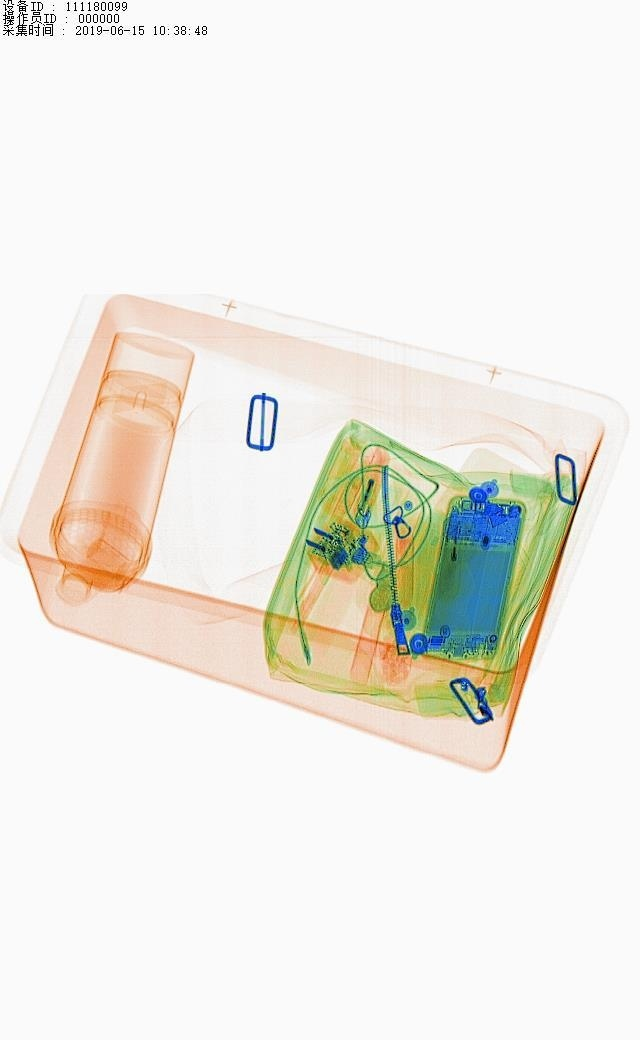NonmetallicFire: (343, 442, 400, 538), (433, 508, 468, 613)
